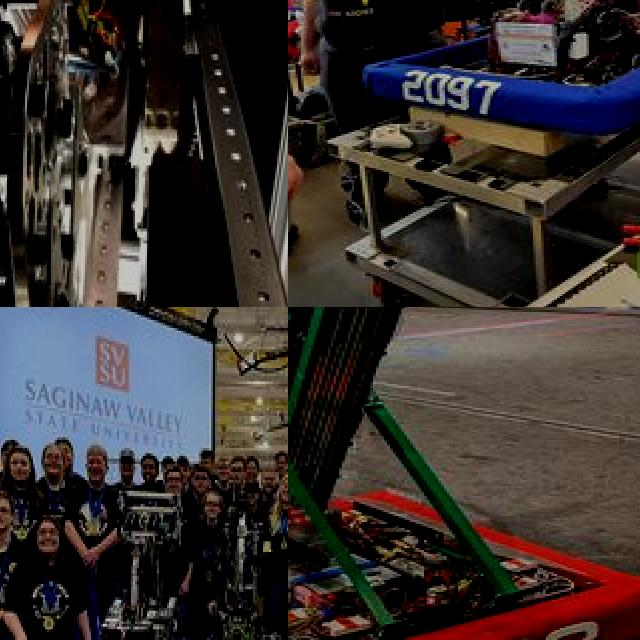FRC-Robots: (288, 307, 640, 640), (288, 0, 640, 129), (186, 453, 273, 640), (91, 454, 175, 640)
